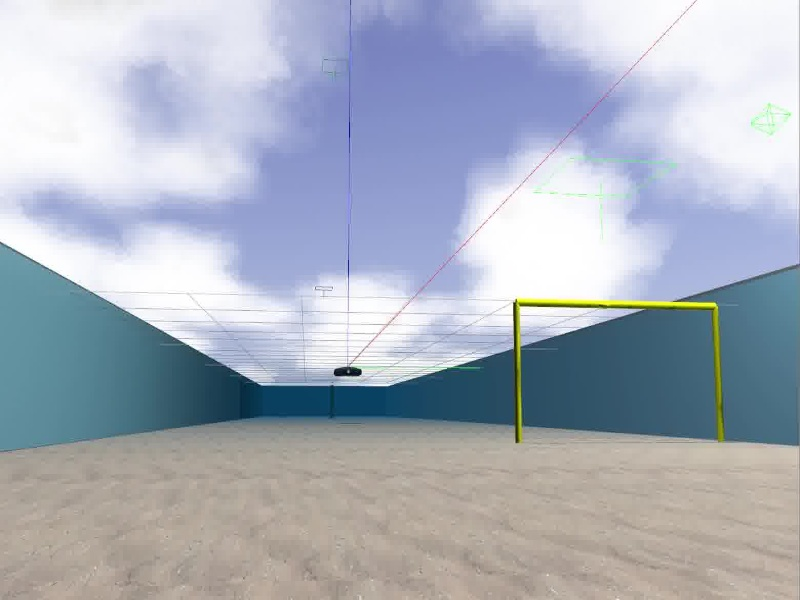gate: (513, 297, 727, 445)
